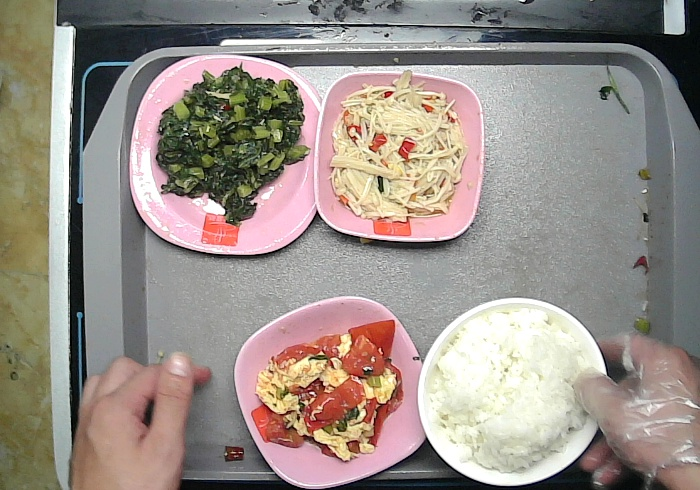SHKJ-Fan_Wan: (415, 298, 607, 486)
SHKJ-Fen_Se_Cai_Die: (234, 296, 433, 490)
SHKJ-Fen_Se_Si_Fang_Cai_Die: (127, 54, 332, 257)
SHKJ-Fen_Se_Xiao_Fang_Die: (313, 70, 486, 243)
